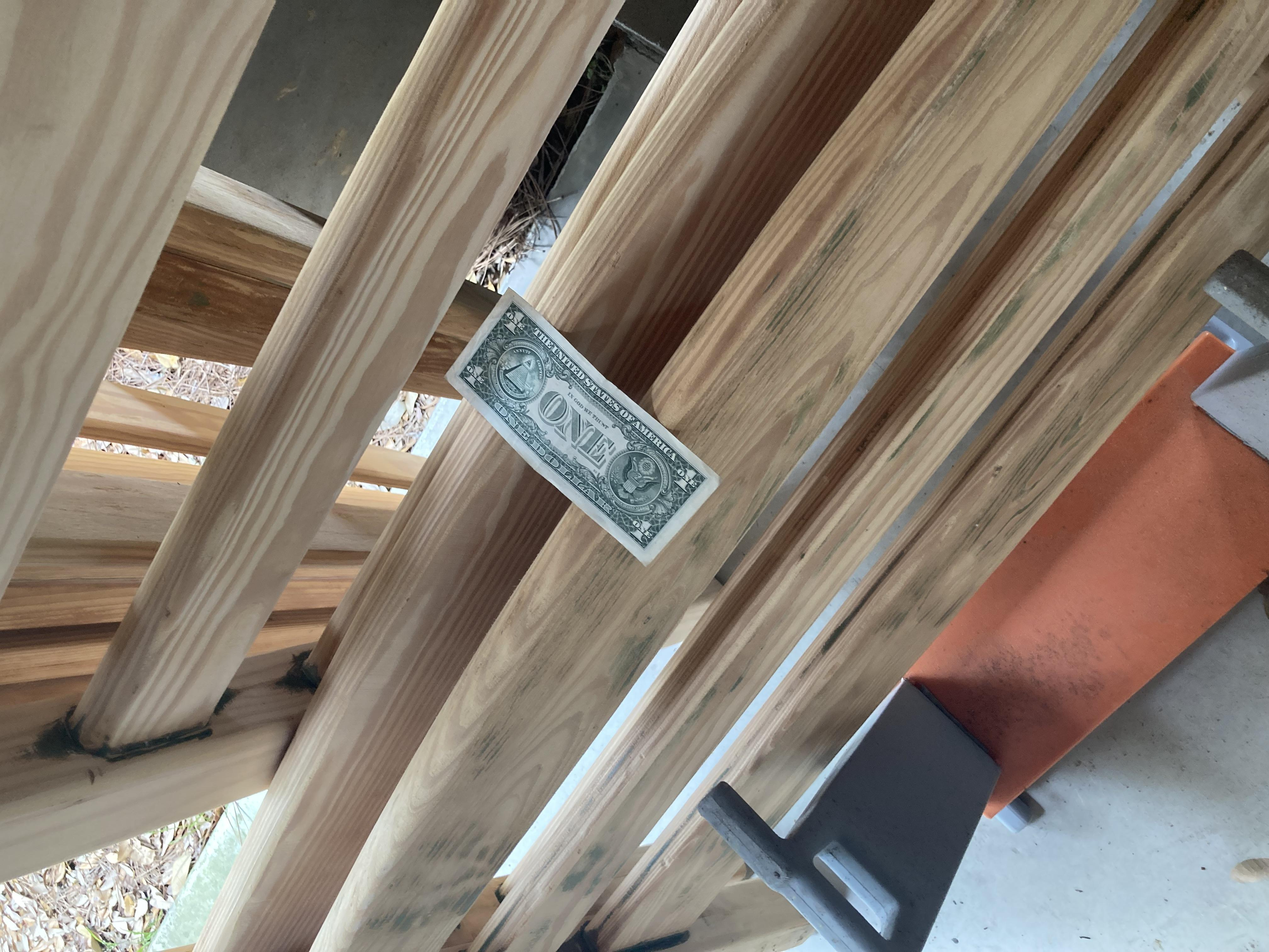one-back: (513, 333, 890, 544)
